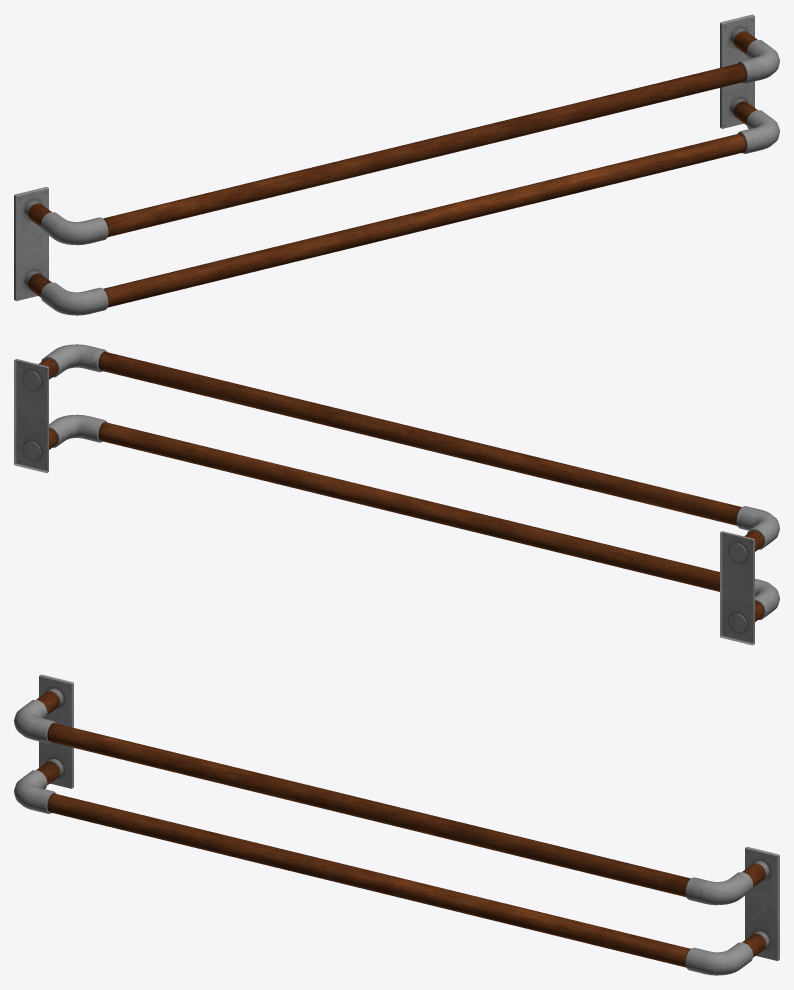
File: WindowRail_150.FBX
The picture shows the model from 3 angles, top to bottom: view 1: azimuth 30°, elevation 25°; view 2: azimuth 150°, elevation 25°; view 3: azimuth 330°, elevation 25°; orthographic projection.
Visible parts, largest first — view 1: WindowRail_150; view 2: WindowRail_150; view 3: WindowRail_150.
Part boxes in pixels (x1,y1,x2,y2): WindowRail_150: (14, 14, 779, 315); WindowRail_150: (14, 344, 779, 645); WindowRail_150: (14, 674, 779, 975).
Bounding box in the file's own units: 220 × 30 × 23.
